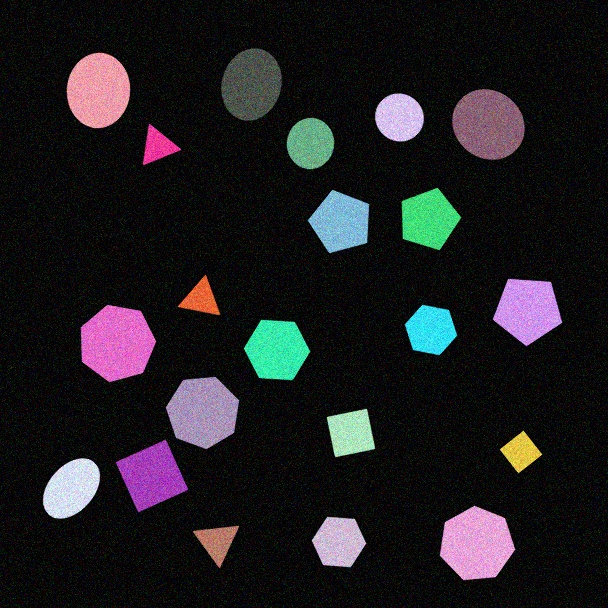Circulo: (451, 88, 526, 161), (286, 117, 335, 170), (374, 93, 425, 142)
Elipse: (66, 52, 131, 129), (220, 48, 283, 121), (42, 458, 101, 519)
Heptagono: (80, 304, 157, 383), (439, 505, 516, 581), (165, 376, 240, 450)
Hexagono: (243, 319, 311, 381), (311, 516, 367, 568), (404, 304, 458, 356)
Pentagono: (492, 278, 563, 347), (307, 189, 370, 254), (401, 187, 462, 251)
Quadrado: (115, 439, 189, 513), (326, 408, 376, 458), (499, 430, 543, 474)
Triangulo: (192, 525, 240, 569), (177, 275, 221, 316), (142, 123, 182, 166)
